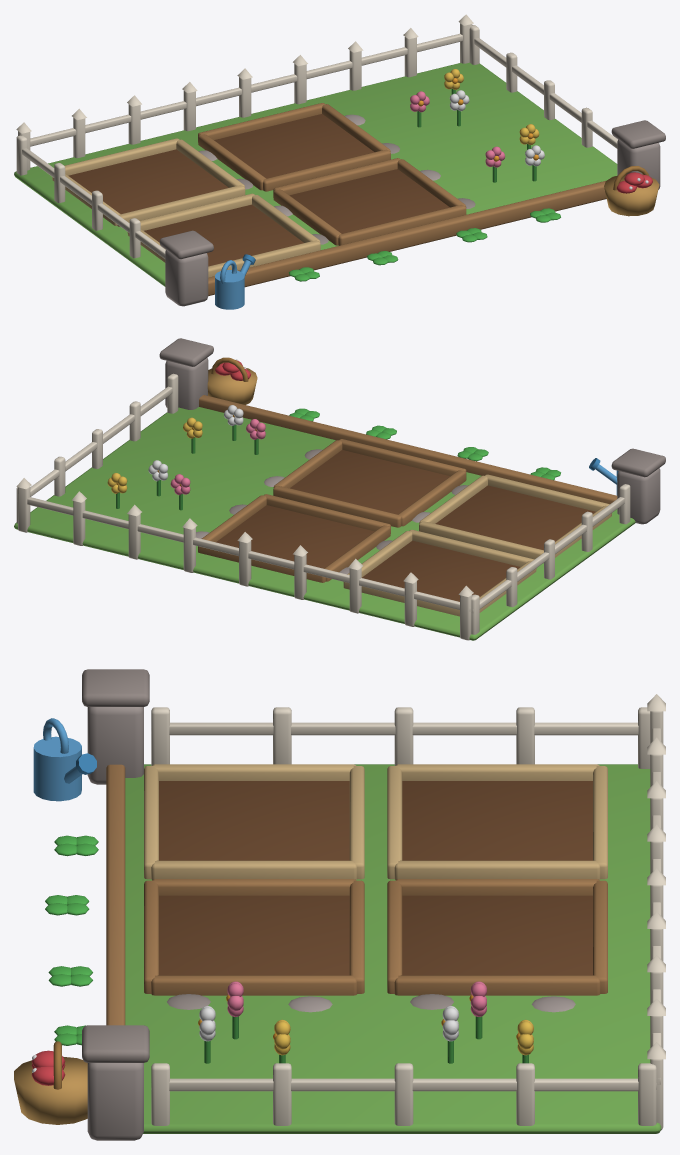
File: garden2.glb
3 renders of one model, top to bottom at view 1: azimuth 30°, elevation 25°; view 2: azimuth 150°, elevation 25°; view 3: azimuth 270°, elevation 25°, orthographic. The views are drawn at different scales.
Parts seen in each view (by area): view 1: base, plank-beds, stone-path, shroom-basket; view 2: base, plank-beds, stone-path, shroom-basket; view 3: base, plank-beds, stone-path, shroom-basket.
Boxes of the visible parts, x1,y1,x2,y2 form: base: (14,14,617,309); plank-beds: (52,138,320,277); stone-path: (159,114,665,306); shroom-basket: (604,166,659,216); base: (14,373,635,640); plank-beds: (343,474,611,616); stone-path: (159,338,665,574); shroom-basket: (207,357,257,404); base: (33,694,665,1133); plank-beds: (144,764,607,879); stone-path: (82,669,575,1140); shroom-basket: (14,1041,87,1124).
Size of the model in its own units: 4.86 by 0.5601 by 3.48.
